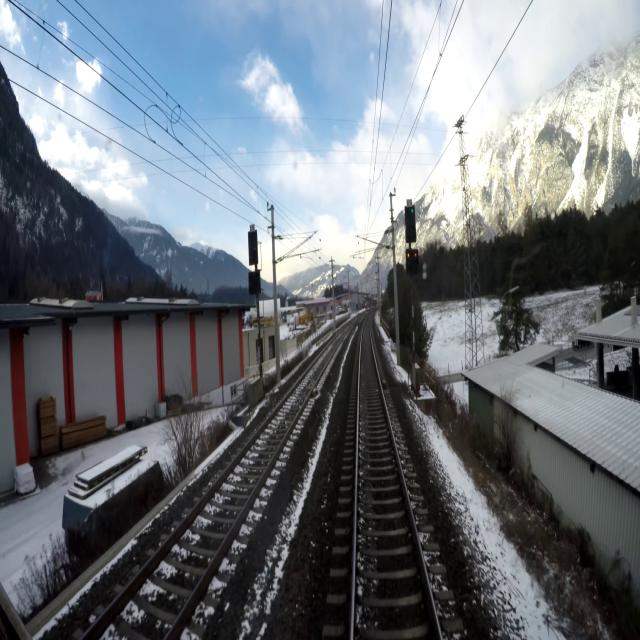rail-track: (85, 325, 349, 639), (354, 314, 438, 639)
